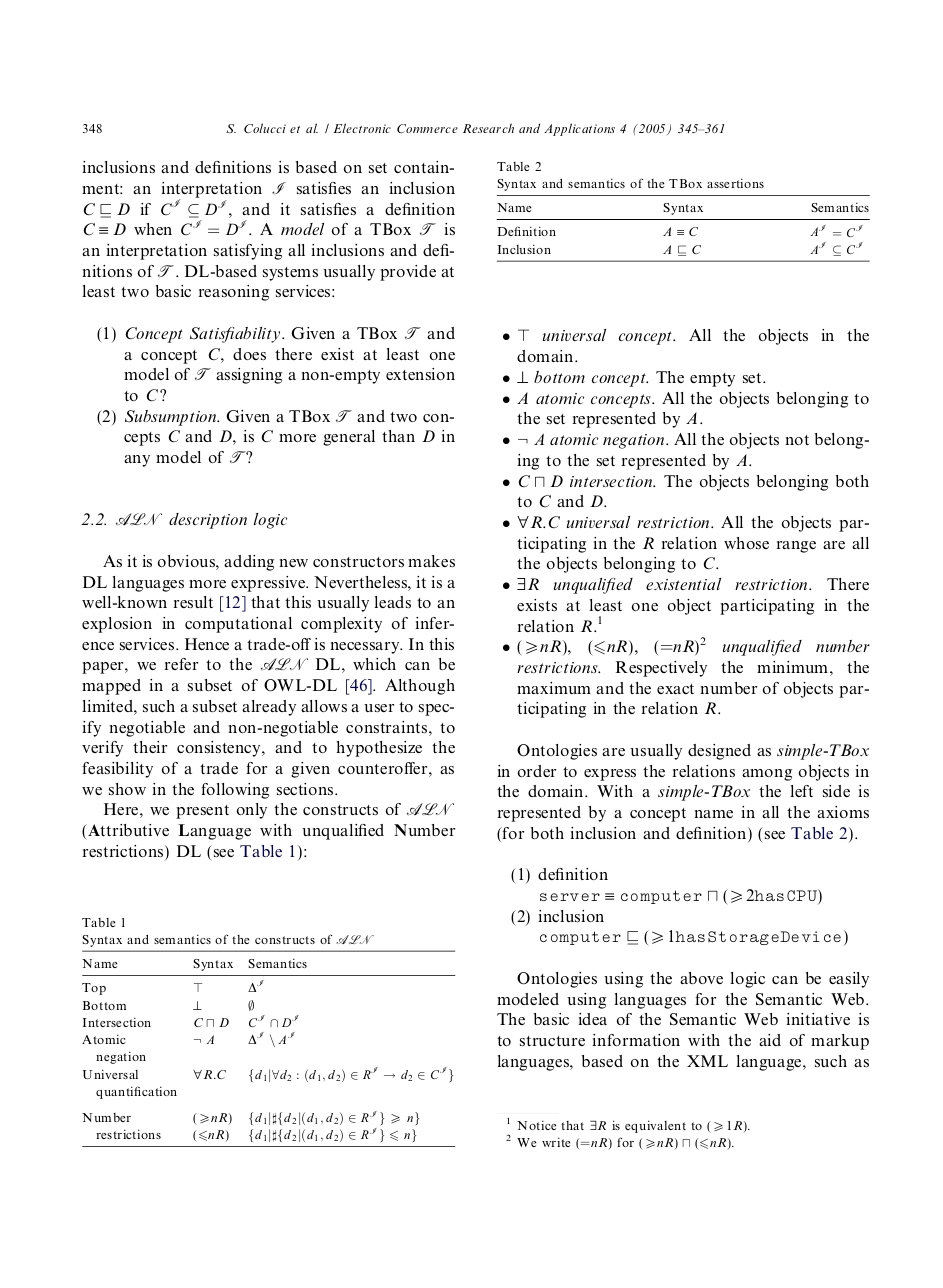Table: (82, 950, 455, 1146), (496, 195, 869, 261)
formula: (540, 928, 847, 946), (540, 887, 821, 905)
